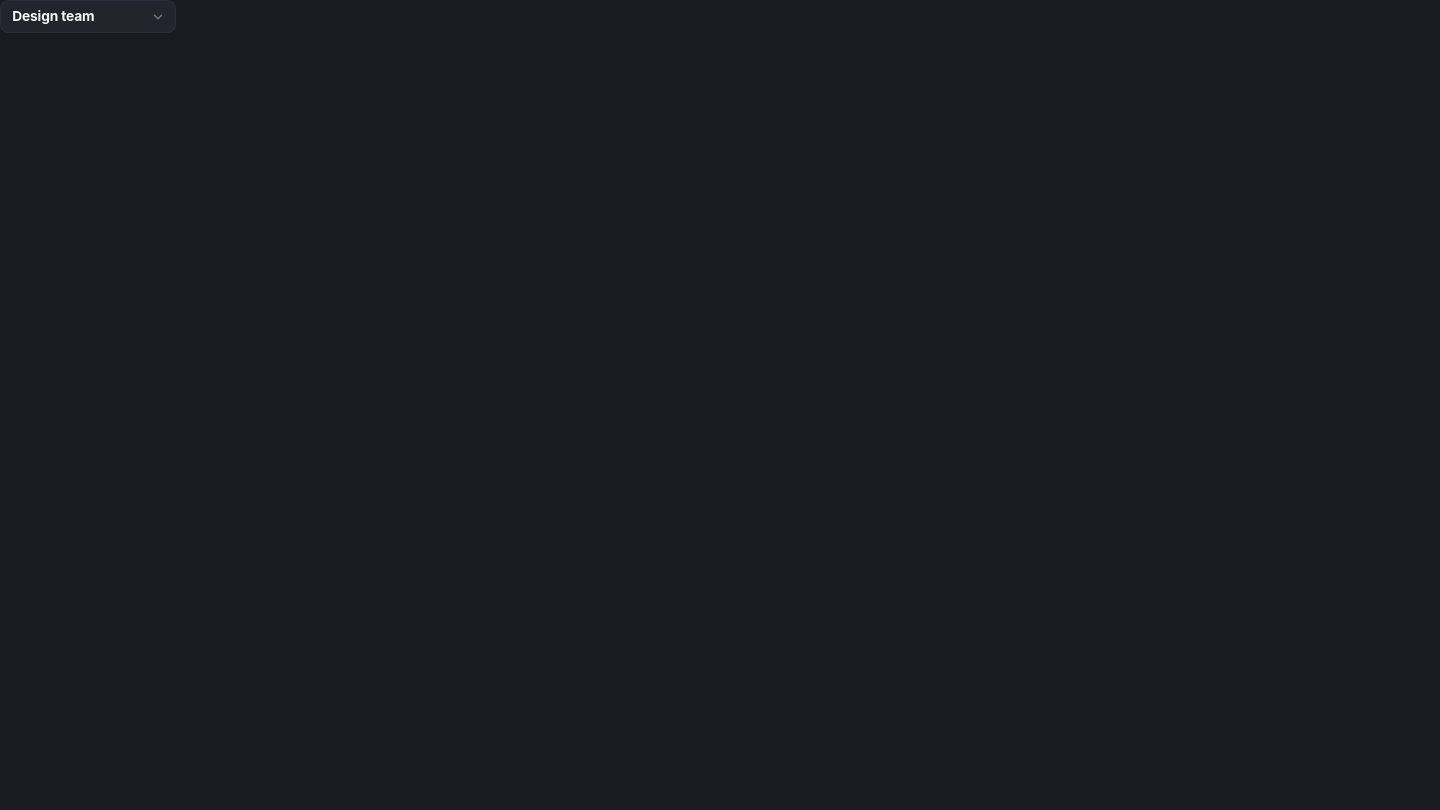
Scenario: WorkspaceSwitcher › keyboard › opens the create dialog with Enter on the + button
Press ArrowDown in the button "Design team", box left=0, top=0, right=176, bottom=33
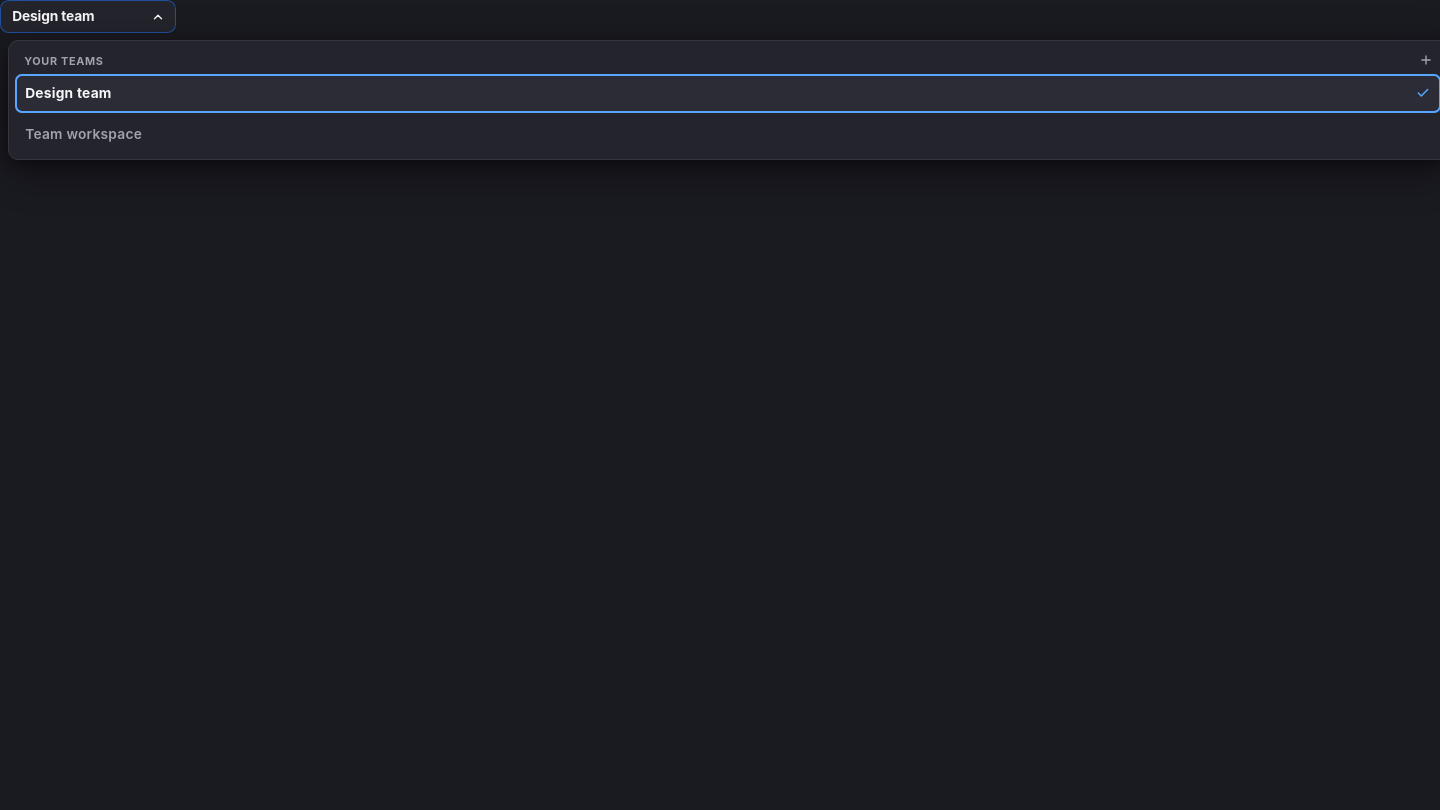
Press Tab in the option "Design team", box left=15, top=74, right=1439, bottom=113
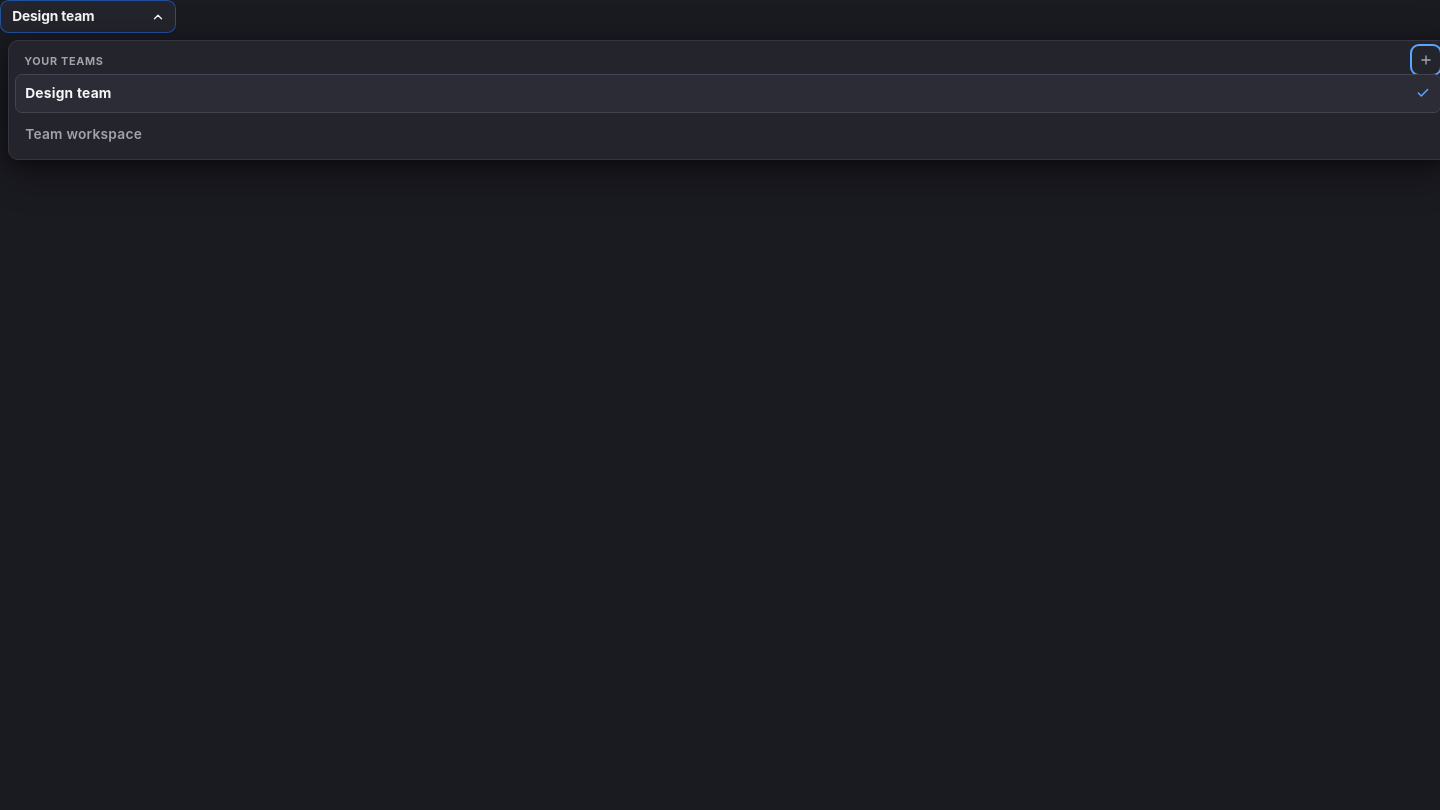
Press Enter in the button named "Create workspace", box left=1413, top=47, right=1439, bottom=73
Click the button named "Create workspace" at (1426, 60), box left=1413, top=47, right=1439, bottom=73
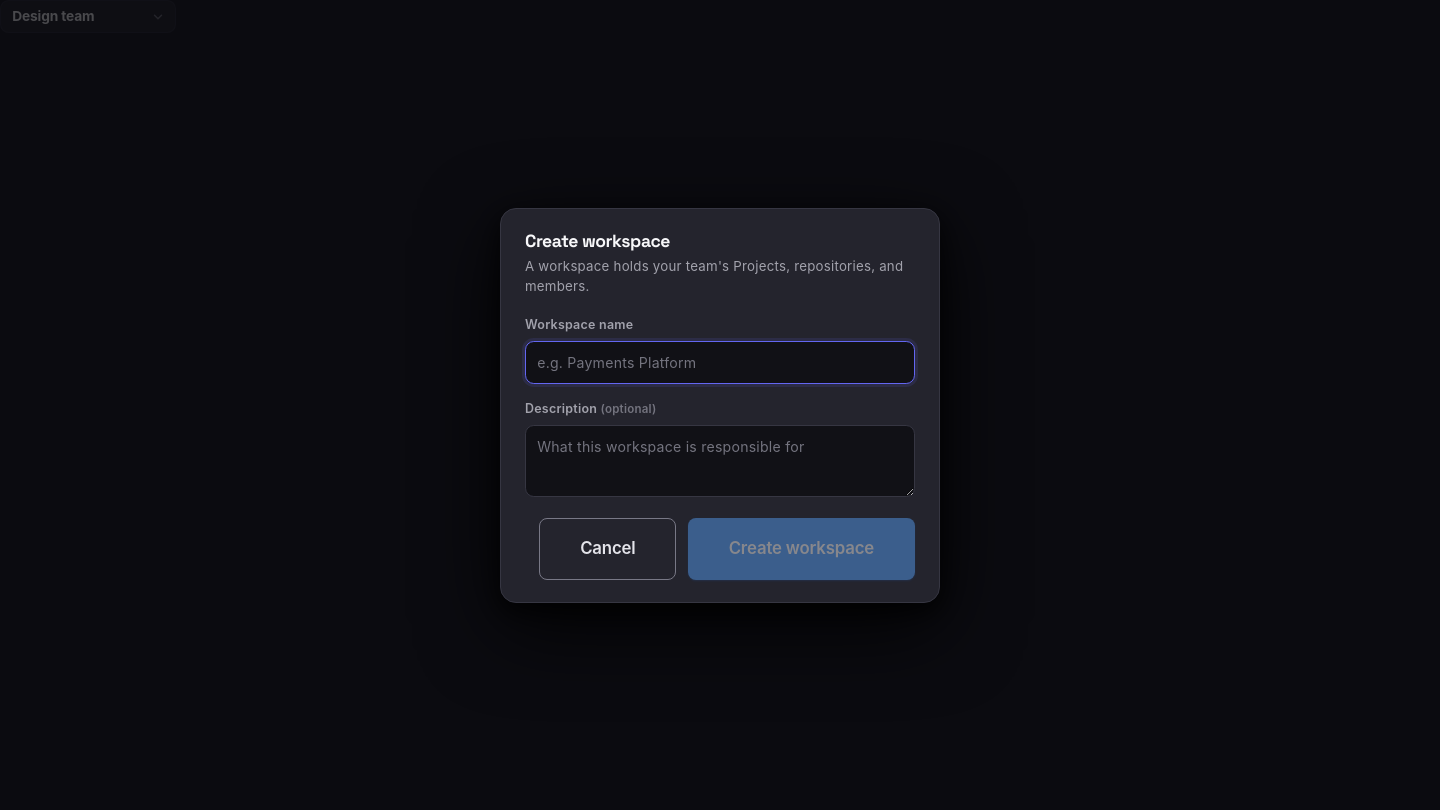
Now the list is gone
Now the dialog is shown, box left=500, top=208, right=940, bottom=602
